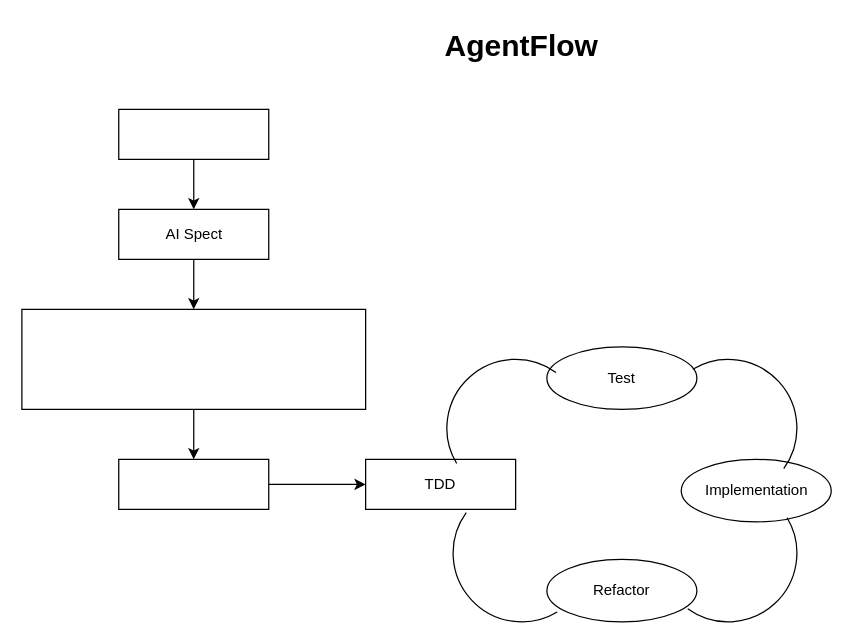
Some shapes in this 854 by 644 pixel diagram are drawn without their labels. The shapes that lost their labels are listed below. From the top down, each one's centre as x and y in pixels, then its label:
At point 193,133: "Hnad Spect".
At point 193,358: "Write in Gerkin Languaje (https://cucumber.io/docs/gherkin/)".
At point 193,483: "AI Implementation".
